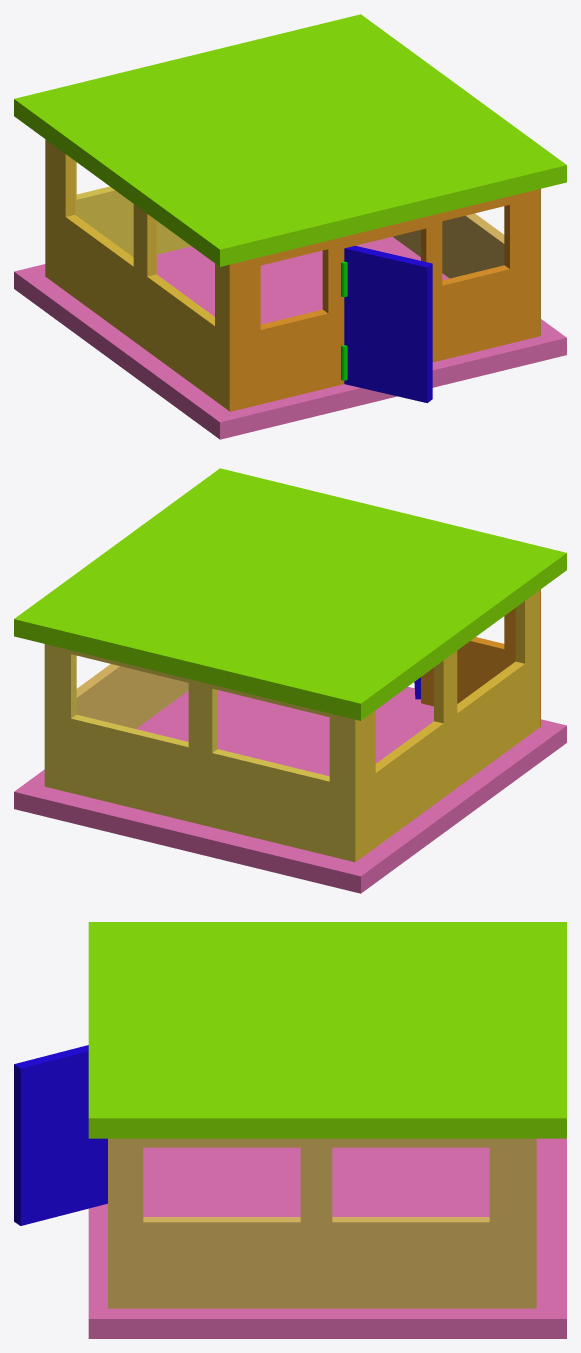
File: securityBox1ManyDoor.fbx
3 renders of one model, top to bottom at view 1: azimuth 30°, elevation 25°; view 2: azimuth 150°, elevation 25°; view 3: azimuth 270°, elevation 25°, orthographic. The views are drawn at different scales.
Visible parts, largest first — view 1: Куб.006, Куб, Куб.005, Куб.002, Куб.001, Куб.003, Куб.004; view 2: Куб.006, Куб.004, Куб.005, Куб.002, Куб.003, Куб; view 3: Куб.006, Куб.003, Куб.005, Куб.001.
Boxes of the visible parts, left/top/right/bottom form: Куб.006: left=14, top=14, right=566, bottom=266; Куб: left=229, top=189, right=540, bottom=411; Куб.005: left=14, top=236, right=566, bottom=439; Куб.002: left=45, top=139, right=229, bottom=410; Куб.001: left=344, top=245, right=432, bottom=403; Куб.003: left=393, top=189, right=540, bottom=335; Куб.004: left=75, top=161, right=191, bottom=256; Куб.006: left=14, top=468, right=566, bottom=720; Куб.004: left=44, top=644, right=355, bottom=862; Куб.005: left=14, top=687, right=566, bottom=893; Куб.002: left=355, top=590, right=539, bottom=861; Куб.003: left=76, top=664, right=188, bottom=728; Куб: left=421, top=589, right=540, bottom=727; Куб.006: left=88, top=922, right=566, bottom=1138; Куб.003: left=108, top=1138, right=536, bottom=1308; Куб.005: left=88, top=1138, right=566, bottom=1338; Куб.001: left=14, top=1045, right=107, bottom=1225.
Bounding box in the file's own units: 535 × 280 × 637.
